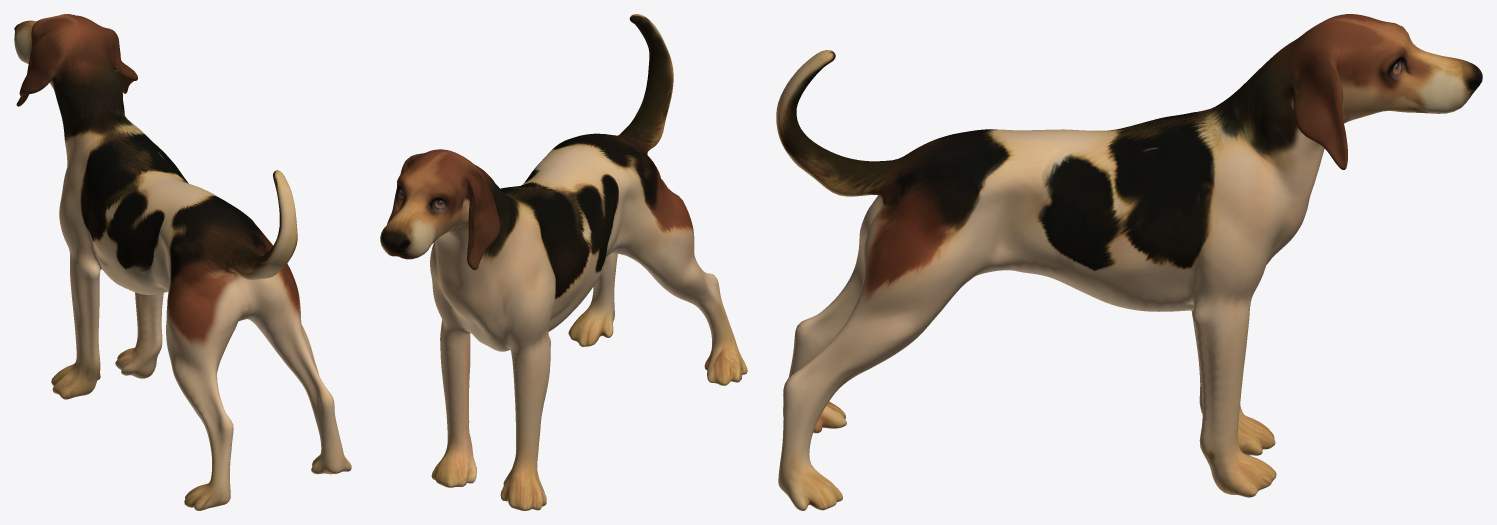
Rendered from Гончие - Френц.gltf.
The picture shows the model from 3 angles, left to right: view 1: azimuth 30°, elevation 25°; view 2: azimuth 150°, elevation 25°; view 3: azimuth 270°, elevation 25°; orthographic projection. The views are drawn at different scales.
Visible parts, largest first — view 1: tripo_node_d180c9a4.2; view 2: tripo_node_d180c9a4.2; view 3: tripo_node_d180c9a4.2.
Boxes of the visible parts, x1,y1,x2,y2 form: tripo_node_d180c9a4.2: (14, 14, 351, 510); tripo_node_d180c9a4.2: (380, 14, 747, 510); tripo_node_d180c9a4.2: (776, 14, 1482, 510).
Size of the model in its own units: 36.58 by 74.57 by 104.
Materials: 1 (1 with a texture image).
